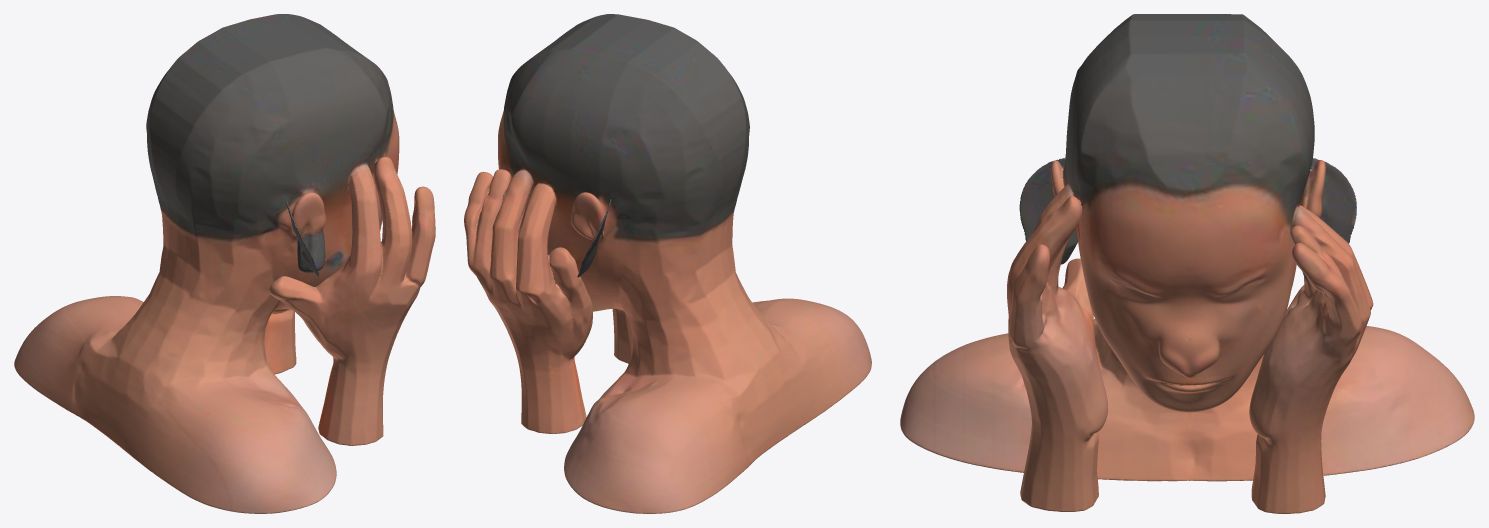
File: migraine4.glb
The picture shows the model from 3 angles, left to right: view 1: azimuth 30°, elevation 25°; view 2: azimuth 150°, elevation 25°; view 3: azimuth 270°, elevation 25°; orthographic projection. The views are drawn at different scales.
Visible parts, largest first — view 1: Migraine; view 2: Migraine; view 3: Migraine.
Part boxes in pixels (x1=…): Migraine: x1=14, y1=14, x2=435, y2=513; Migraine: x1=464, y1=14, x2=871, y2=513; Migraine: x1=900, y1=14, x2=1474, y2=513.
Size of the model in its own units: 0.6837 by 0.8542 by 1.
Materials: 1 (1 with a texture image).
